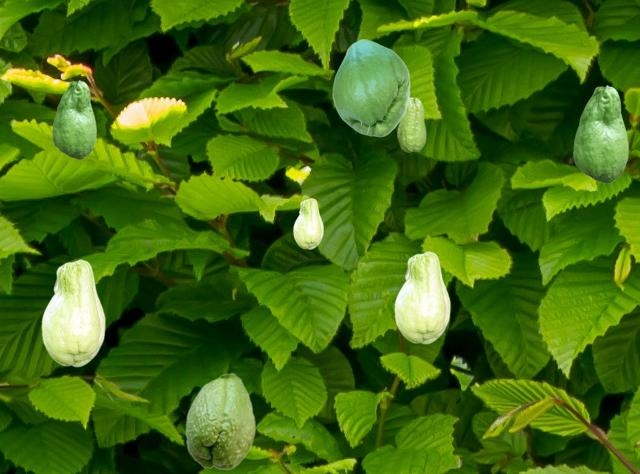sayote: (332, 39, 409, 136), (185, 372, 255, 469), (41, 259, 104, 366), (573, 85, 627, 182), (394, 251, 449, 343), (52, 80, 95, 158), (397, 97, 425, 151), (293, 198, 322, 248)
